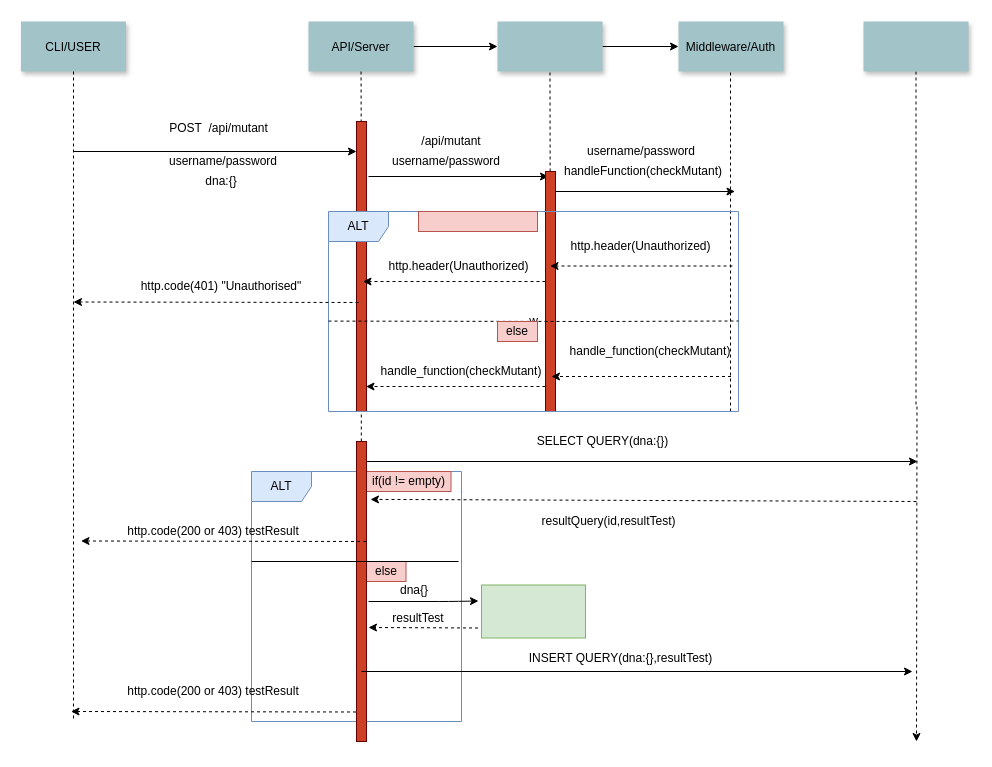
This 992x767 diagram has some shape labels left out. Here are the shapes that lost their labels. From the top down, the centre of each, then its label:
At pixel 550 47: "Router".
At pixel 916 47: "DataBase Magneto".
At pixel 478 221: "if(invalidCredentials)".
At pixel 533 611: "isMutant(dna{})".
